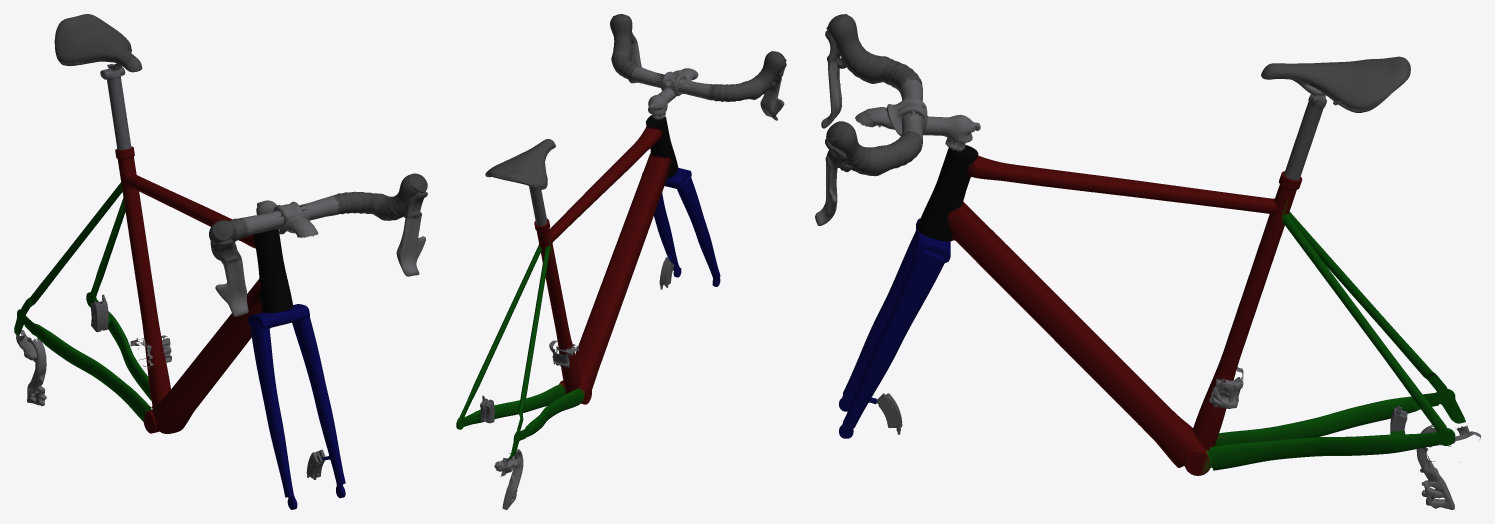
The model's file is look785m_lod0.glb.
The picture shows the model from 3 angles, left to right: view 1: azimuth 30°, elevation 25°; view 2: azimuth 150°, elevation 25°; view 3: azimuth 270°, elevation 25°; orthographic projection. The views are drawn at different scales.
Parts seen in each view (by area): view 1: frame, cockpit, fork, saddle, seatpost, etrier_arriere; view 2: frame, cockpit, fork, saddle, seatpost; view 3: frame, cockpit, fork, saddle, seatpost.
Part boxes in pixels (<box>): frame: <box>14,146,293,433</box>; cockpit: <box>209,173,427,316</box>; fork: <box>248,304,345,509</box>; saddle: <box>54,14,142,72</box>; seatpost: <box>100,67,131,150</box>; etrier_arriere: <box>90,294,108,331</box>; frame: <box>456,115,678,509</box>; cockpit: <box>610,14,786,120</box>; fork: <box>642,168,720,286</box>; saddle: <box>485,139,555,189</box>; seatpost: <box>529,186,547,225</box>; frame: <box>917,144,1480,509</box>; cockpit: <box>815,14,980,225</box>; fork: <box>839,218,950,438</box>; saddle: <box>1261,56,1410,112</box>; seatpost: <box>1284,93,1326,180</box>.
Size of the model in its own units: 0.475 by 0.8353 by 1.1.
